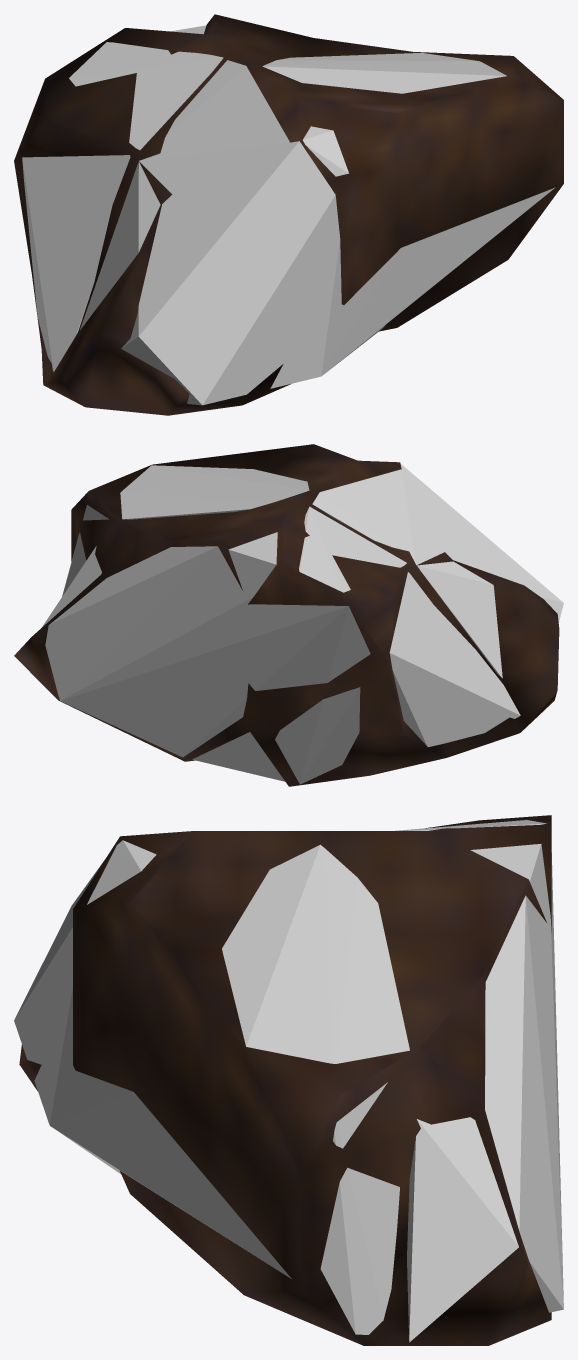
File: SM_RandomBit_01.fbx
The picture shows the model from 3 angles, top to bottom: view 1: azimuth 30°, elevation 25°; view 2: azimuth 150°, elevation 25°; view 3: azimuth 270°, elevation 25°; orthographic projection. The views are drawn at different scales.
Visible parts, largest first — view 1: SM_RandomBit_01_ConvexHulls, SM_RandomBit_01; view 2: SM_RandomBit_01_ConvexHulls, SM_RandomBit_01; view 3: SM_RandomBit_01, SM_RandomBit_01_ConvexHulls.
Part boxes in pixels (left/top/right/bottom): SM_RandomBit_01_ConvexHulls: left=22, top=25, right=555, bottom=405; SM_RandomBit_01: left=14, top=14, right=563, bottom=415; SM_RandomBit_01_ConvexHulls: left=42, top=463, right=563, bottom=784; SM_RandomBit_01: left=14, top=444, right=559, bottom=786; SM_RandomBit_01: left=19, top=815, right=551, bottom=1345; SM_RandomBit_01_ConvexHulls: left=14, top=820, right=563, bottom=1342.
Bounding box in the file's own units: 8.04 × 5.19 × 4.15.
2 materials, 1 textured.
